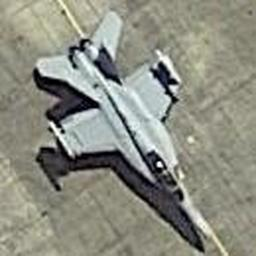Airplane: (31, 8, 233, 255)
